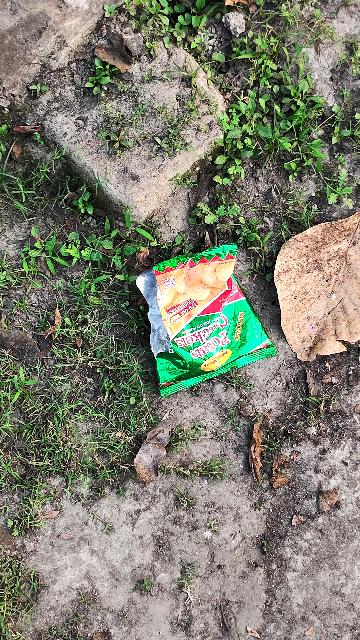packet: (110, 226, 284, 413)
